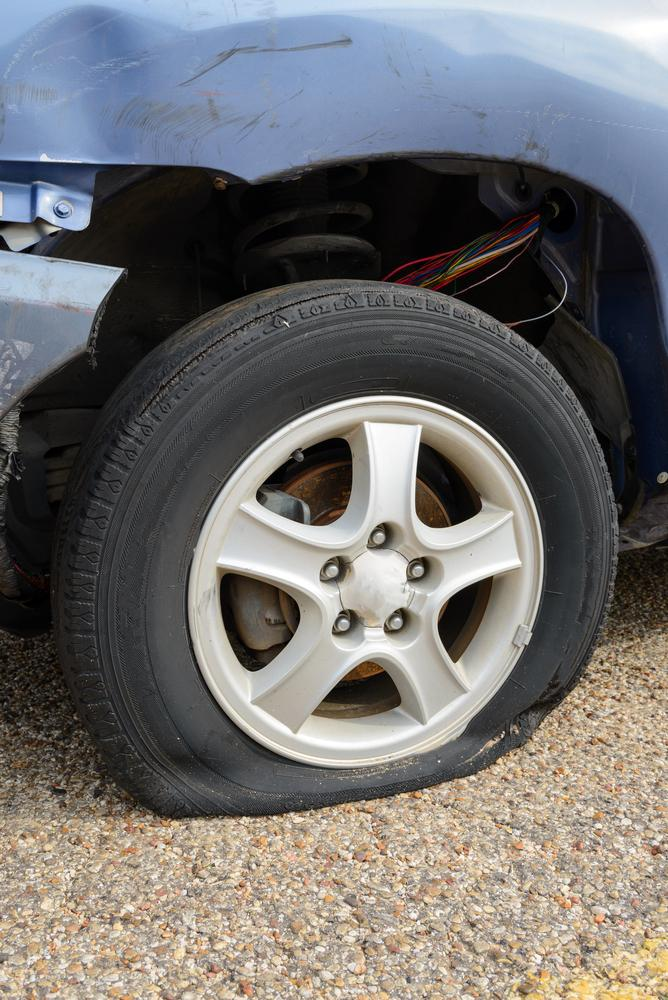dent: (9, 13, 160, 167)
scratch: (153, 28, 358, 167)
tire flat: (54, 278, 619, 819)
